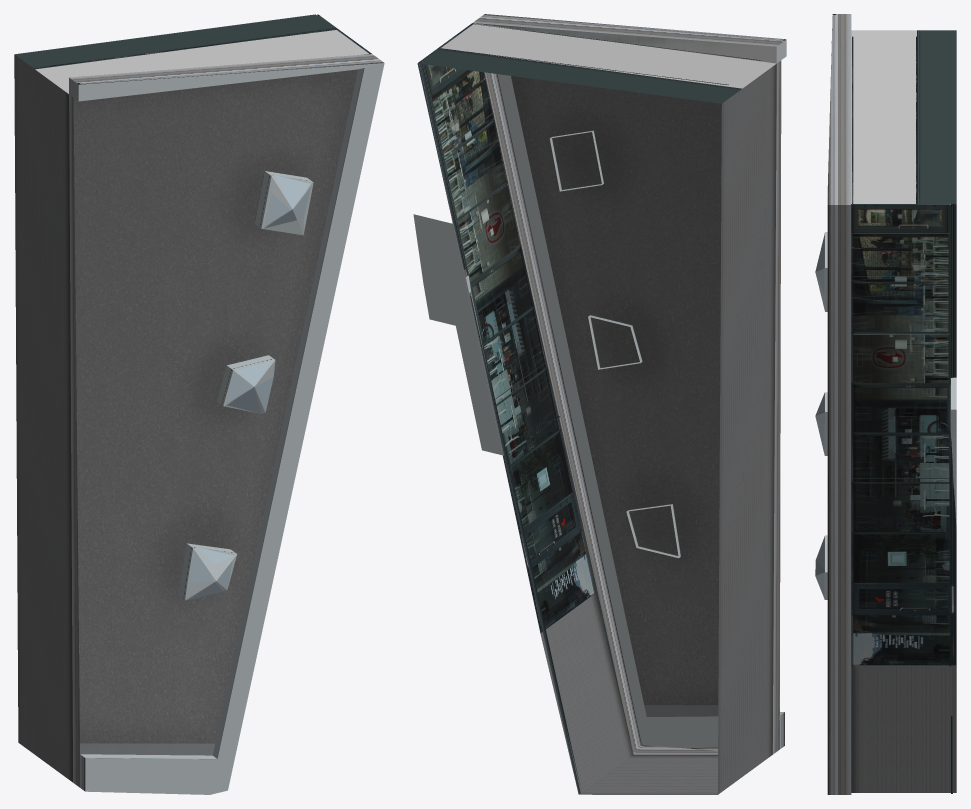
File: Harju40a-origo.obj
3 views of the same model, side by side, from view 1: azimuth 30°, elevation 25°; view 2: azimuth 150°, elevation 25°; view 3: azimuth 270°, elevation 25° (orthographic). The views are drawn at different scales.
Visible parts, largest first — view 1: Box001, Line005; view 2: Box001, Line006, Line005, Line003; view 3: Box001, Line002, Line005, Line006, Line003.
Boxes of the visible parts, x1=… form: Box001: x1=14, y1=14, x2=384, y2=794; Line005: x1=32, y1=14, x2=337, y2=69; Box001: x1=419, y1=14, x2=786, y2=794; Line006: x1=413, y1=214, x2=503, y2=455; Line005: x1=417, y1=48, x2=741, y2=794; Line003: x1=438, y1=23, x2=761, y2=84; Box001: x1=815, y1=14, x2=956, y2=794; Line002: x1=852, y1=204, x2=950, y2=666; Line005: x1=917, y1=30, x2=956, y2=793; Line006: x1=951, y1=377, x2=956, y2=529; Line003: x1=852, y1=36, x2=916, y2=204.
Bounding box in the file's own units: 9.56 × 22 × 3.96.
